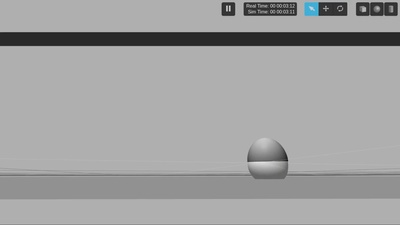mira_robot: (248, 138, 289, 179)
